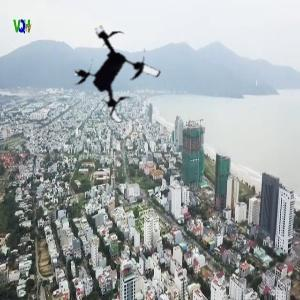drone: (69, 25, 170, 126)
